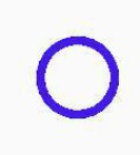RadioButton: (1, 1, 139, 154)
